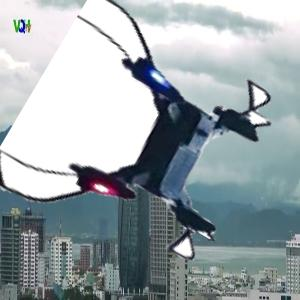drone: (26, 19, 265, 258)
